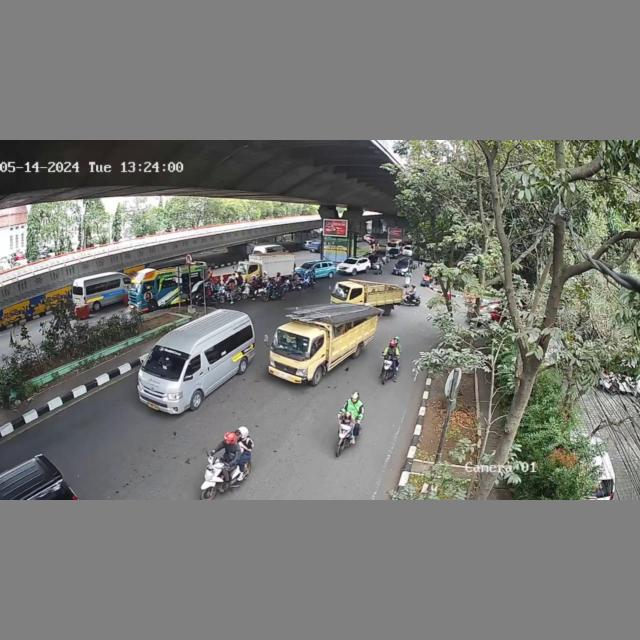windshield: (136, 341, 195, 380), (271, 330, 315, 357)
